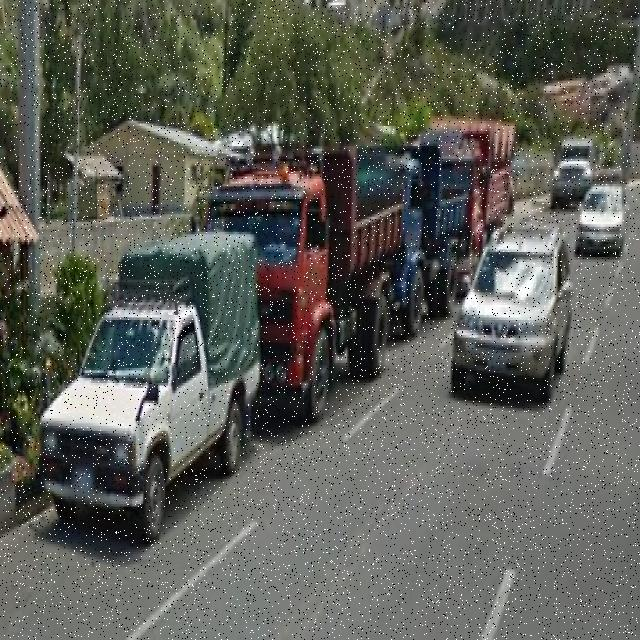cars: (46, 247, 254, 531), (460, 220, 573, 410), (582, 168, 628, 259), (551, 124, 594, 188)
